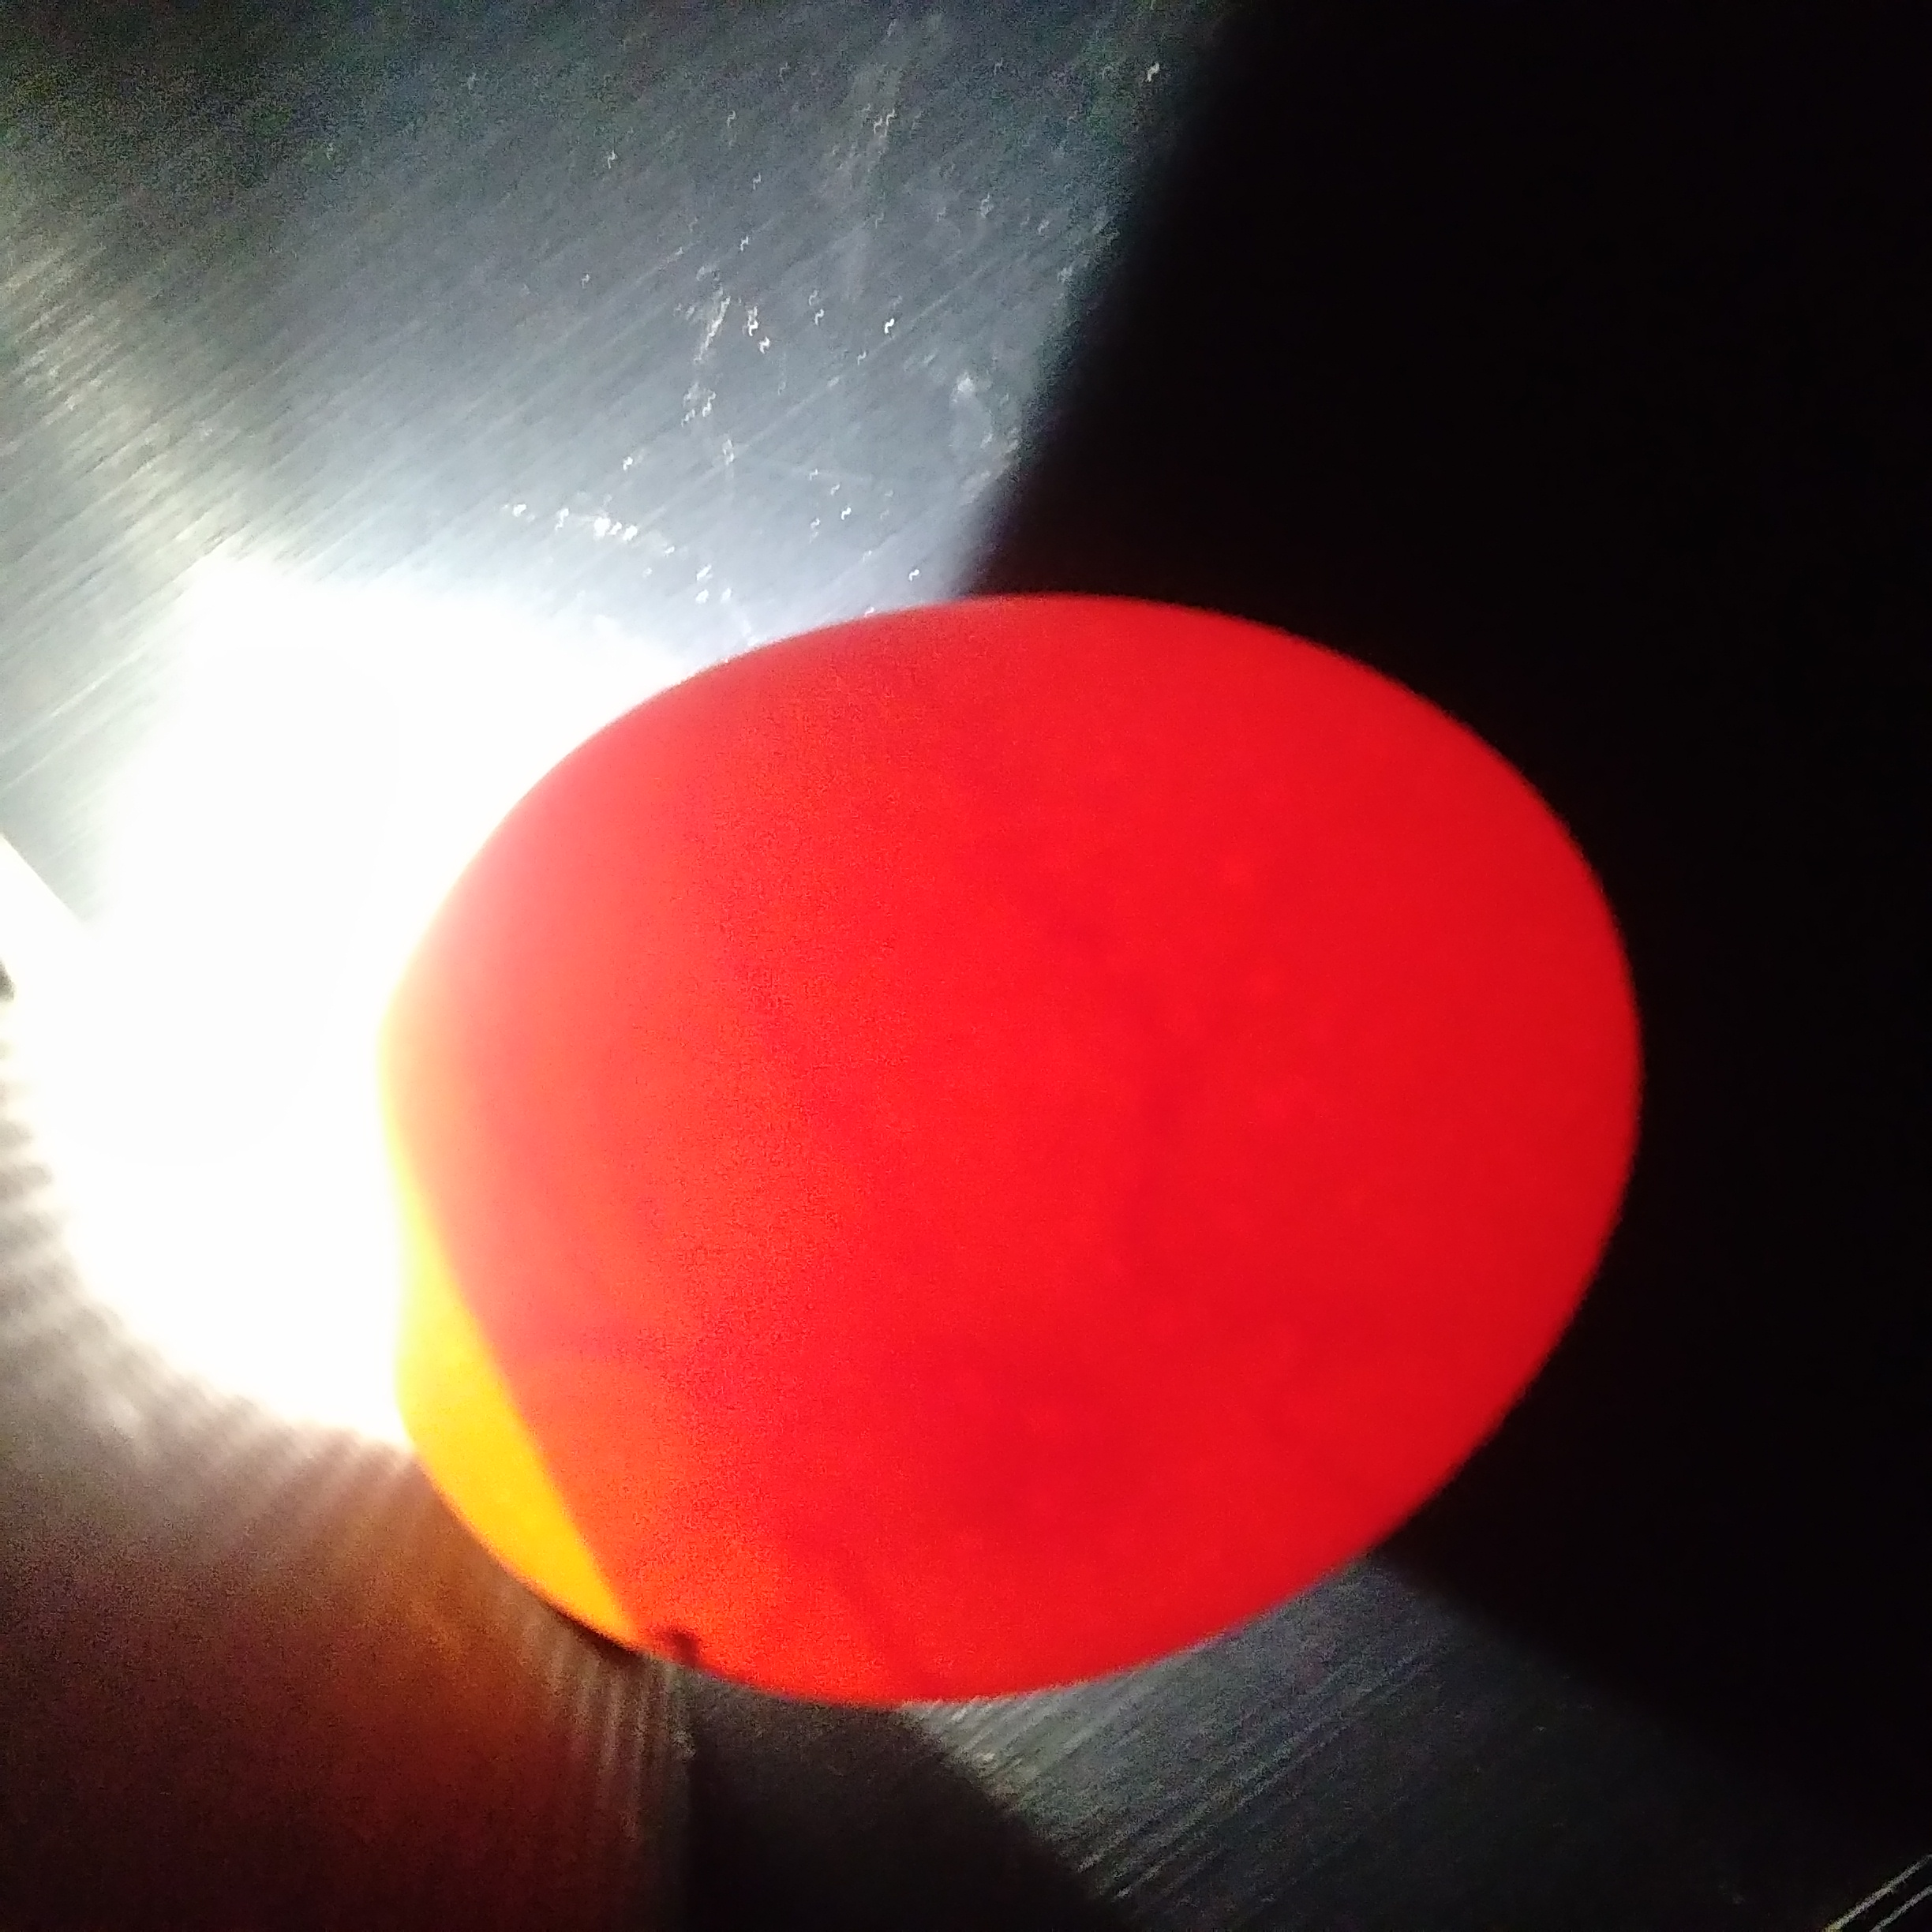bloodcell: (527, 1182, 842, 1507)
